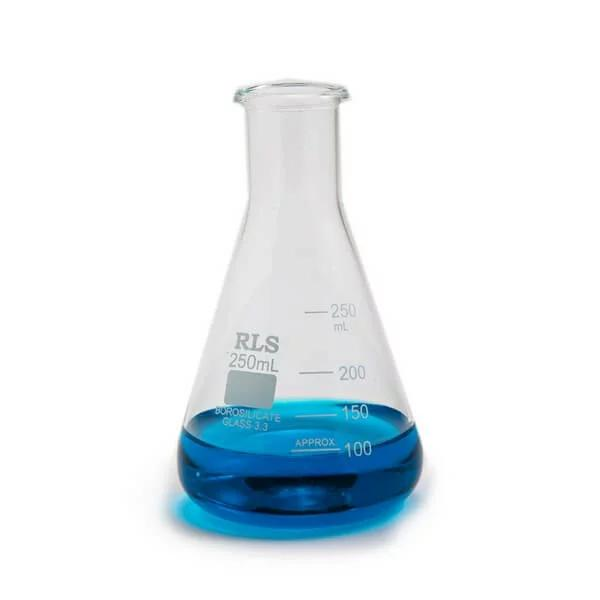Titrarion: (174, 74, 423, 517)
